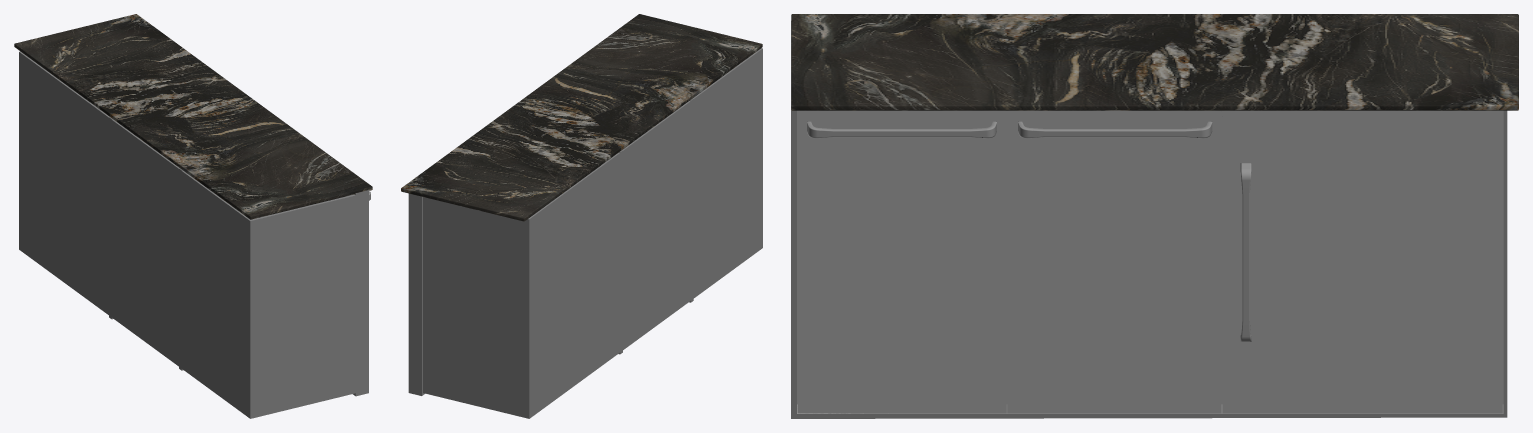
File: KitchenCabinetSmall.fbx
3 renders of one model, left to right at view 1: azimuth 30°, elevation 25°; view 2: azimuth 150°, elevation 25°; view 3: azimuth 270°, elevation 25°, orthographic. The views are drawn at different scales.
Parts seen in each view (by area): view 1: CABINET.001, CABINET.005; view 2: CABINET.001, CABINET.005; view 3: CABINET.010, CABINET.005, CABINET.009, CABINET.008, CABINET.001.
Boxes of the visible parts, bbox=[...] form: CABINET.001: bbox=[19, 51, 368, 418]; CABINET.005: bbox=[14, 14, 372, 219]; CABINET.001: bbox=[408, 48, 762, 418]; CABINET.005: bbox=[401, 14, 762, 221]; CABINET.010: bbox=[1222, 110, 1503, 413]; CABINET.005: bbox=[791, 14, 1518, 110]; CABINET.009: bbox=[1006, 110, 1221, 413]; CABINET.008: bbox=[797, 110, 1007, 413]; CABINET.001: bbox=[791, 21, 1507, 418].
Bounding box in the file's own units: 52.95 × 81.04 × 169.
4 materials, 1 textured.
